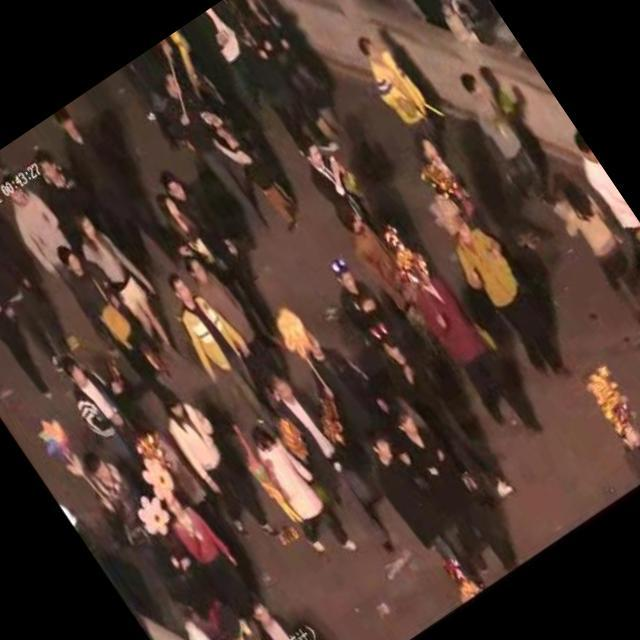person: (327, 253, 526, 516), (388, 232, 559, 453), (250, 360, 410, 568), (372, 316, 525, 516), (378, 394, 530, 586), (382, 393, 528, 584), (140, 372, 285, 556), (44, 96, 188, 281), (351, 420, 494, 606), (46, 230, 188, 414), (150, 148, 290, 334), (441, 207, 582, 390), (357, 422, 497, 600), (67, 202, 202, 378), (152, 66, 286, 242), (156, 260, 288, 430), (225, 0, 364, 155), (234, 414, 364, 576), (348, 22, 472, 179), (440, 61, 563, 218), (537, 163, 640, 346), (180, 242, 297, 388), (48, 334, 166, 472), (154, 483, 266, 621), (0, 194, 80, 368), (212, 112, 314, 240), (0, 232, 69, 409), (332, 200, 426, 320), (197, 0, 292, 114), (285, 120, 371, 224), (0, 164, 82, 273), (27, 140, 108, 238), (70, 442, 152, 538), (235, 580, 343, 640), (148, 184, 216, 268), (345, 0, 467, 46), (204, 599, 309, 640), (600, 401, 640, 487)
